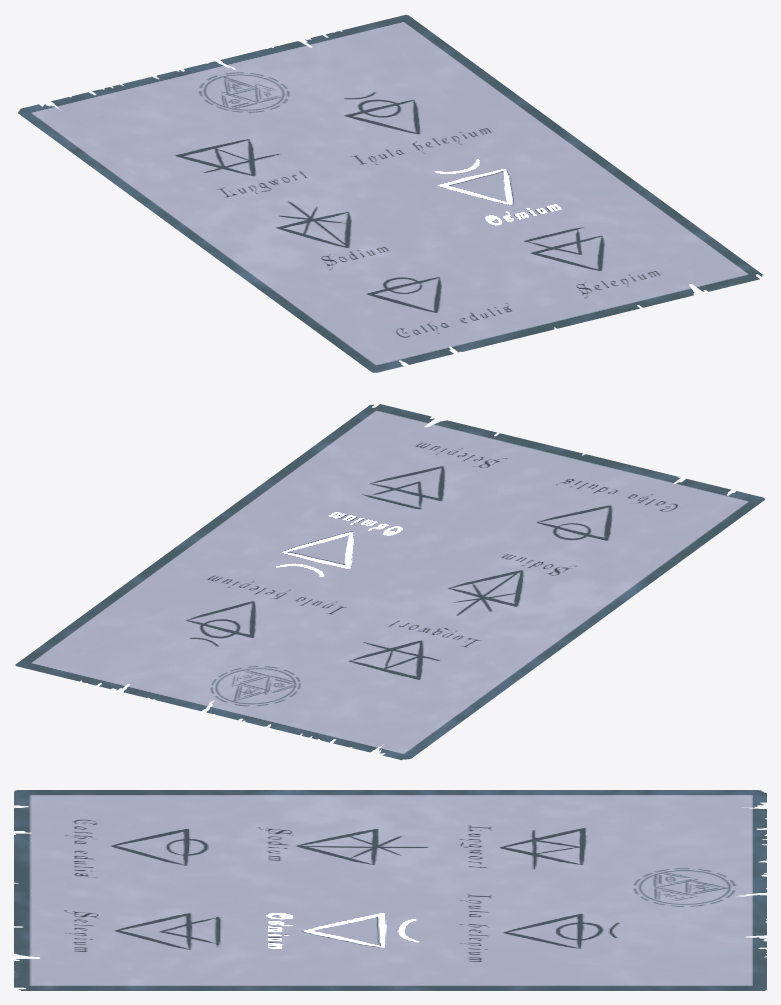
Rendered from Poster_3DModel.FBX.
The picture shows the model from 3 angles, top to bottom: view 1: azimuth 30°, elevation 25°; view 2: azimuth 150°, elevation 25°; view 3: azimuth 270°, elevation 25°; orthographic projection. The views are drawn at different scales.
Visible parts, largest first — view 1: Plane001; view 2: Plane001; view 3: Plane001.
Part boxes in pixels (box(x1,y1,x2,y2)): Plane001: box(18, 15, 763, 372); Plane001: box(15, 404, 765, 760); Plane001: box(14, 790, 766, 990).
Size of the model in its own units: 65.14 by 6.32e-15 by 103.
1 material, 1 textured.
